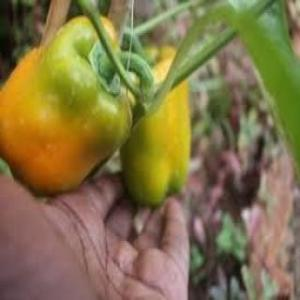bell_pepper: (2, 9, 152, 203)
